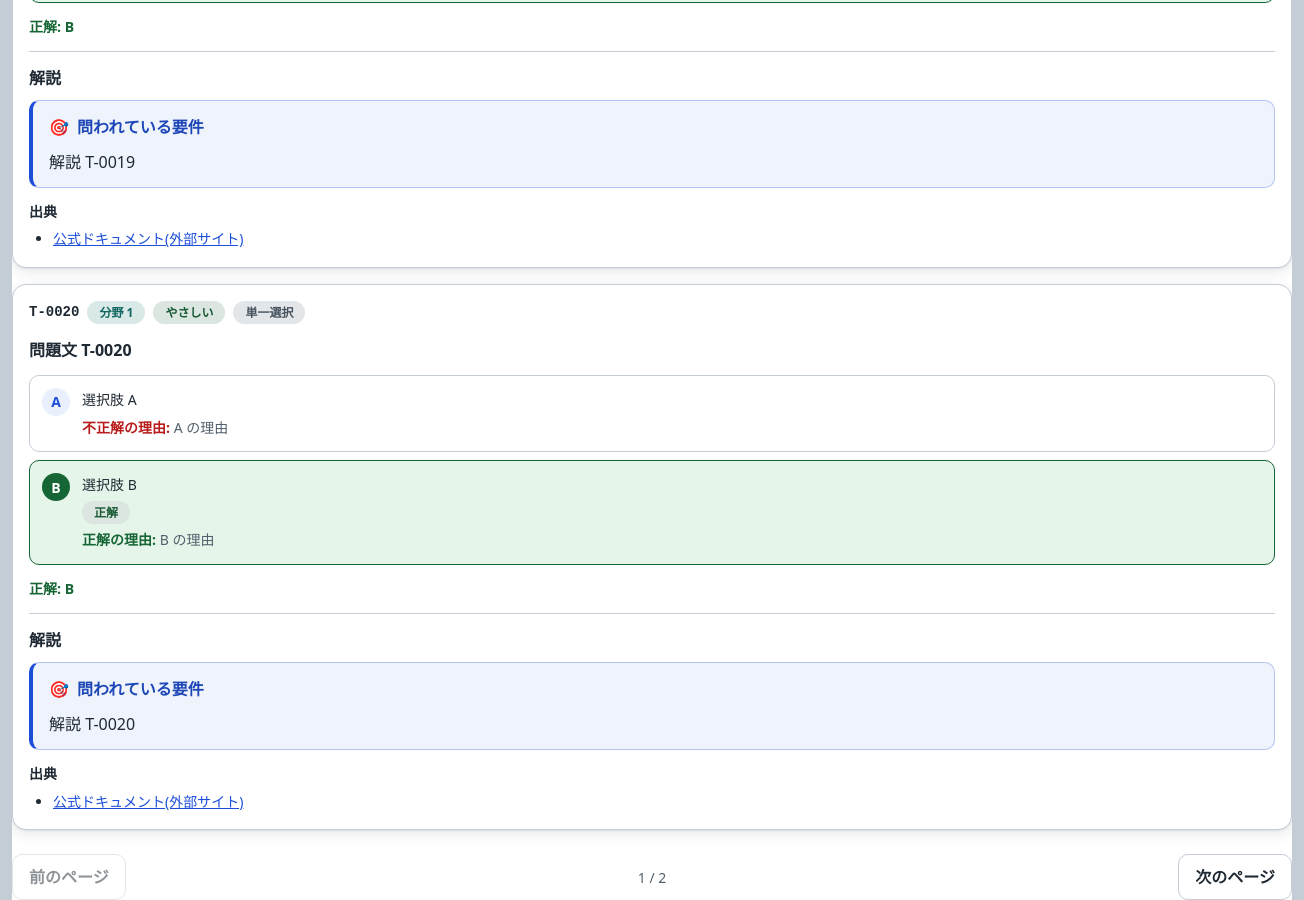
Test case: QuestionPreview › 多い資格_ページに分け_前後へ移れる_絞り込むと最初に戻る
(page scrolled)
Expected: the button "前のページ" is disabled, 12,854 -> 126,899
Click the button "次のページ" at (1235, 878), box 1178,854 -> 1292,899
(page scrolled)
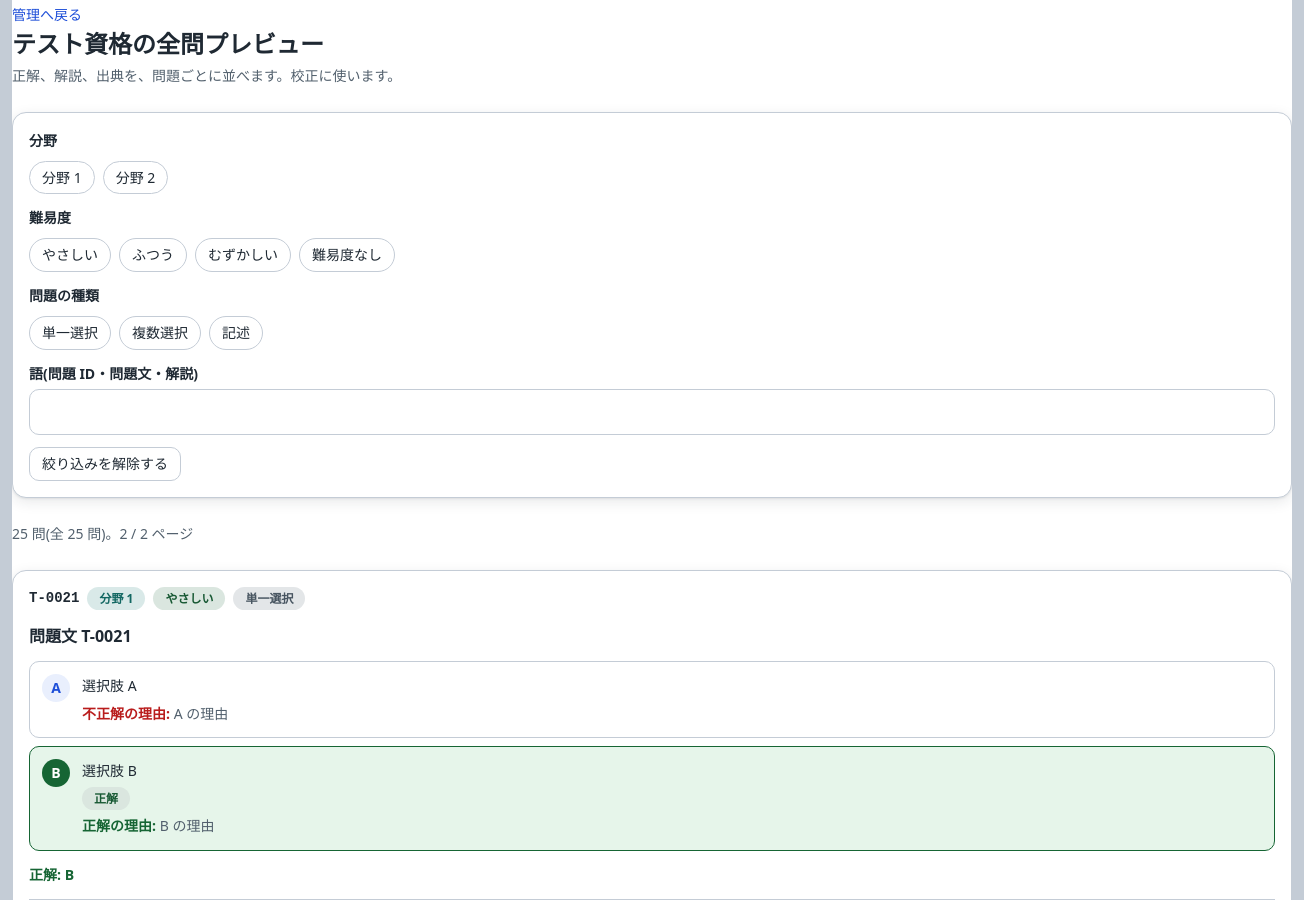
Click the button "分野 1" at (62, 178), box 29,161 -> 95,194
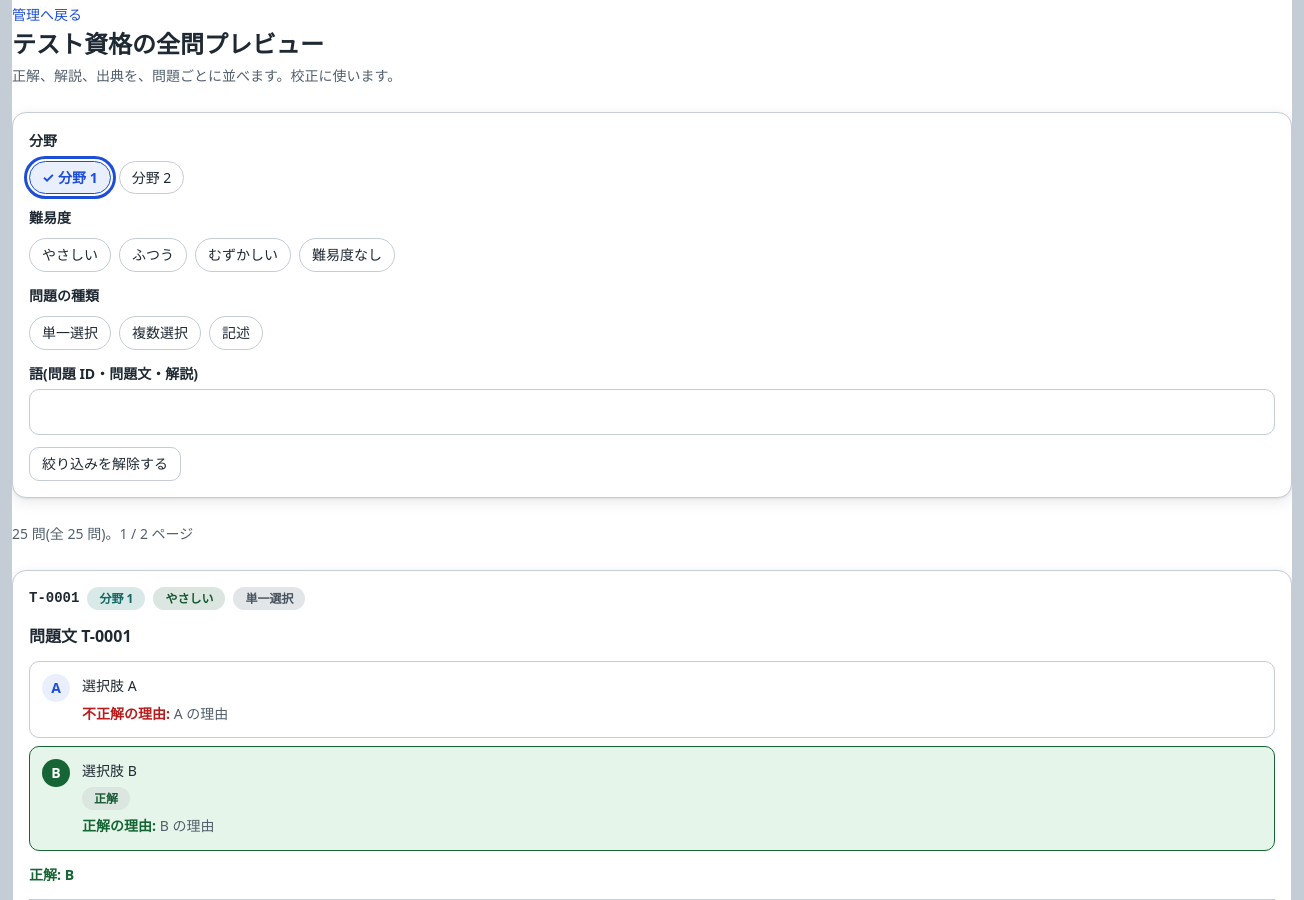
Expected: the text "25 問(全 25 問)。1 / 2 ページ" is shown, 12,524 -> 193,543
